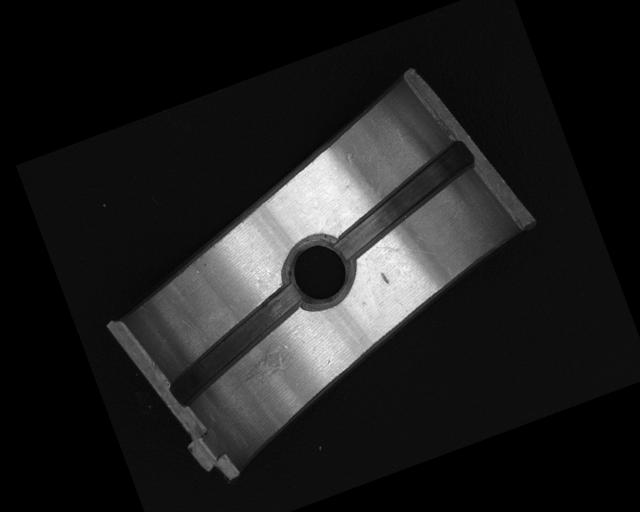bruise: (379, 270, 391, 287)
gap: (150, 281, 321, 408), (319, 140, 488, 260)
hole: (275, 228, 363, 315)
scratch: (215, 323, 309, 395)
